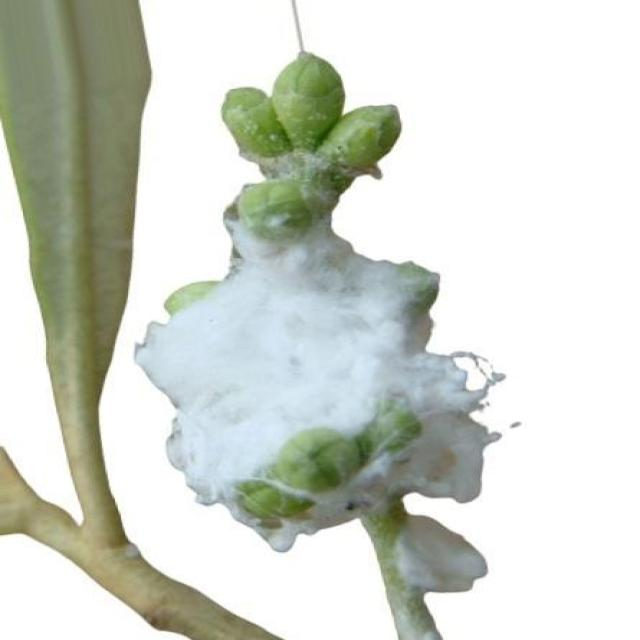Psyllid: (135, 181, 519, 554), (388, 511, 486, 639)
